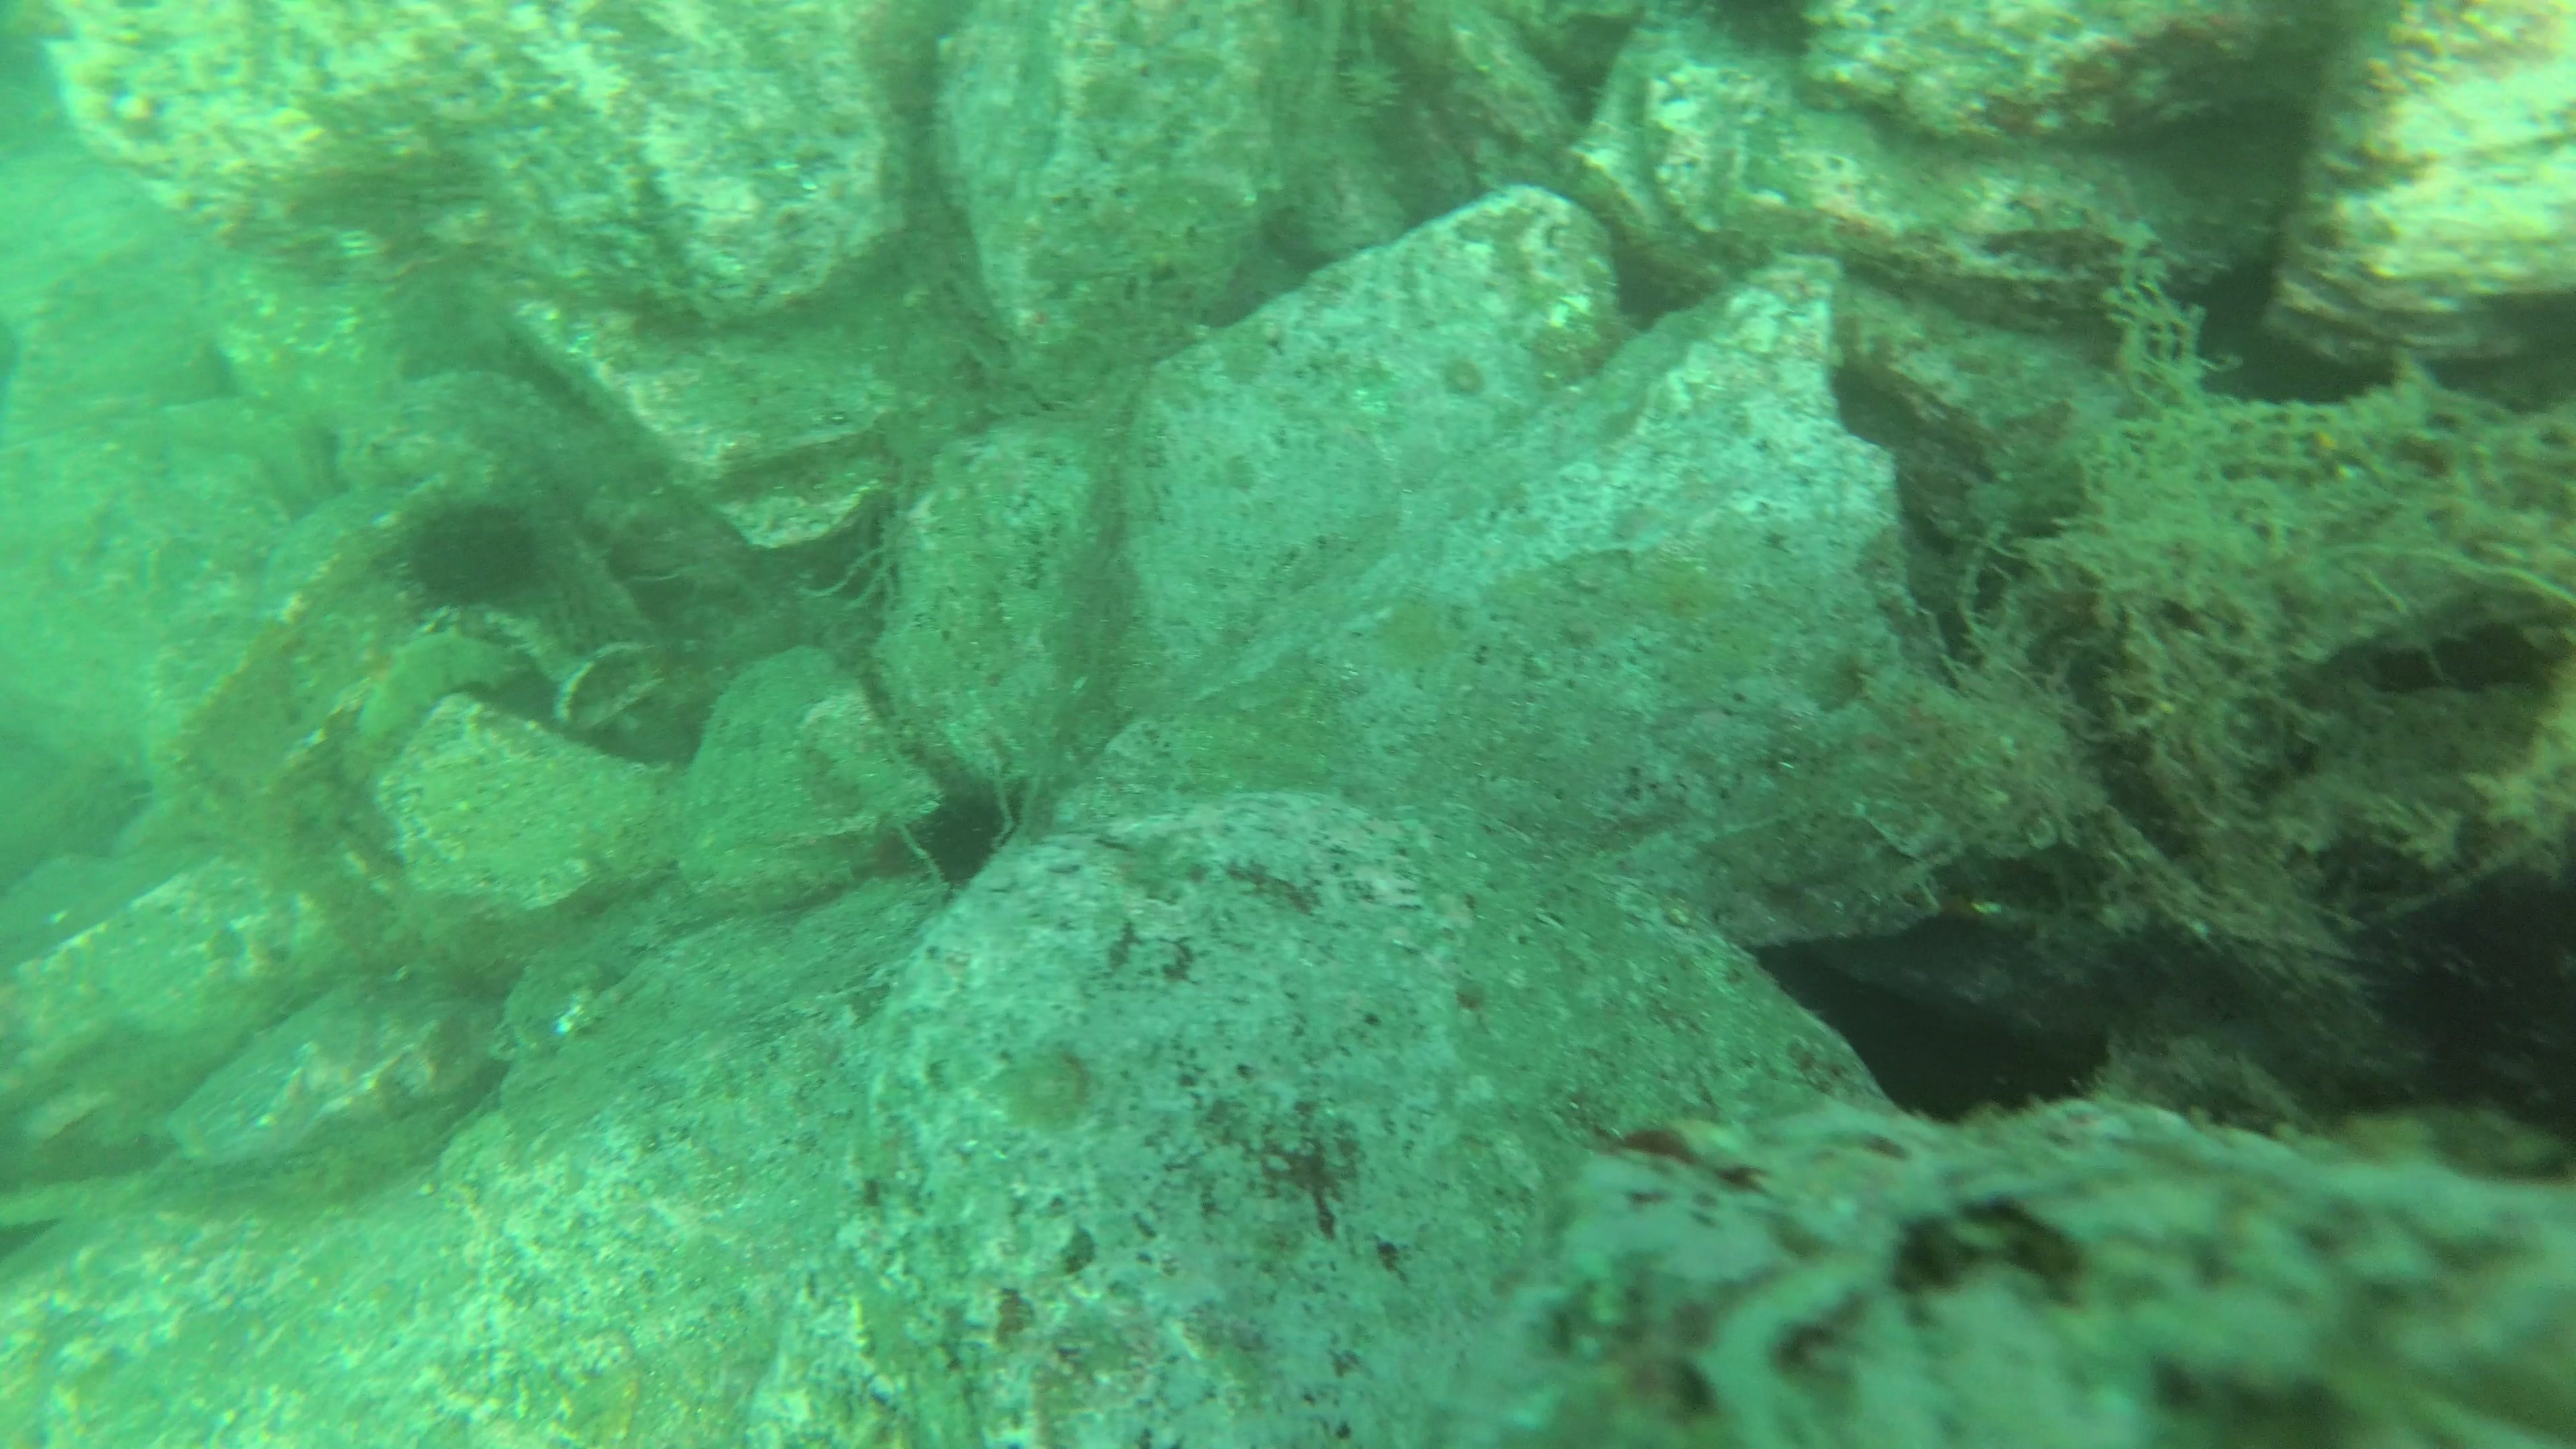echinus: (2346, 842, 2574, 1136), (387, 487, 554, 619), (901, 763, 1040, 901)
holothurian: (343, 617, 531, 766)
starfish: (341, 617, 531, 764)
